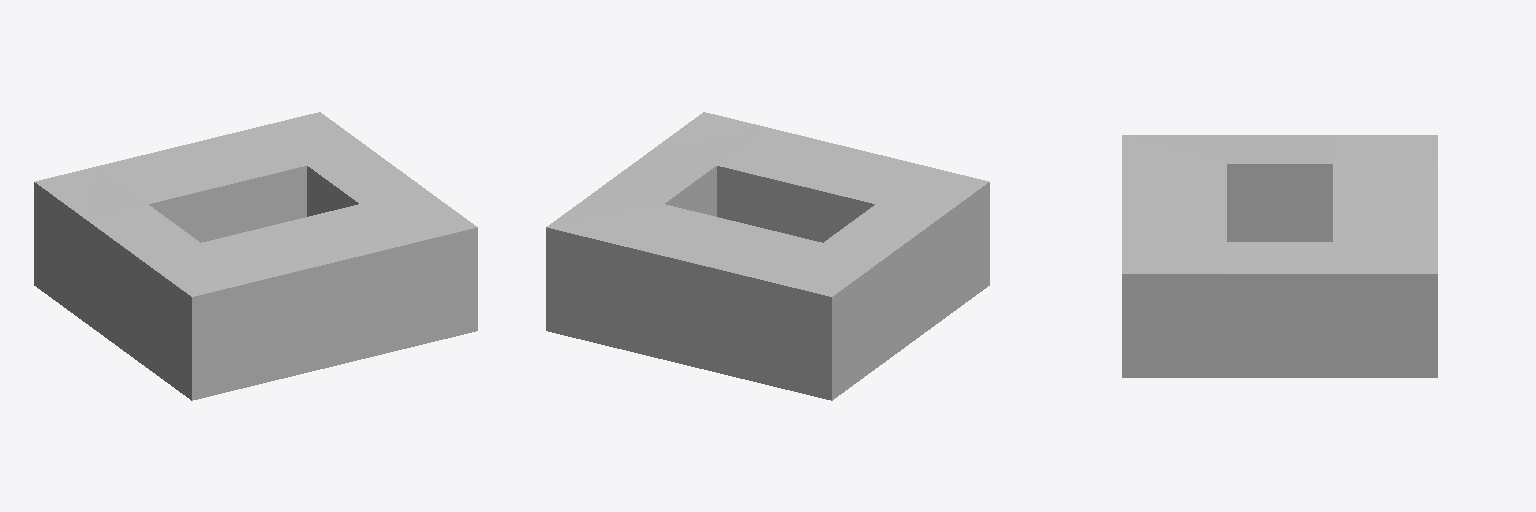
The model's file is gtm.obj.
The picture shows the model from 3 angles: view 1: azimuth 30°, elevation 25°; view 2: azimuth 150°, elevation 25°; view 3: azimuth 270°, elevation 25°; orthographic projection.
Visible parts, largest first — view 1: Cube; view 2: Cube; view 3: Cube.
Boxes of the visible parts, box(x1,y1,x2,y2) form: Cube: box(34, 112, 477, 400); Cube: box(546, 112, 989, 400); Cube: box(1122, 135, 1437, 377).
Bounding box in the file's own units: 3.86 × 1.35 × 3.69.